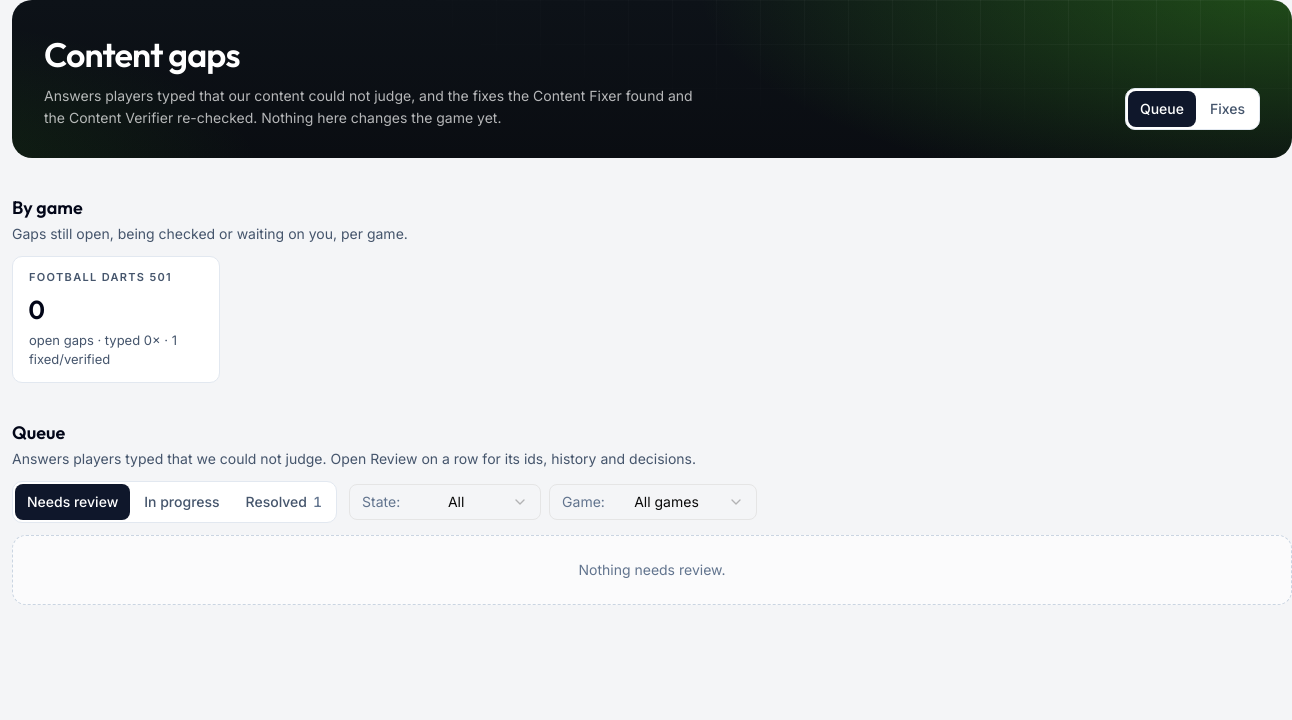
Test: a view with nothing in it says so, and the State filter narrows the list
Expected: the text "Nothing needs review." is shown, [12,534,1291,604]
Click the tab "Resolved1": (284, 502) [234,484,334,520]
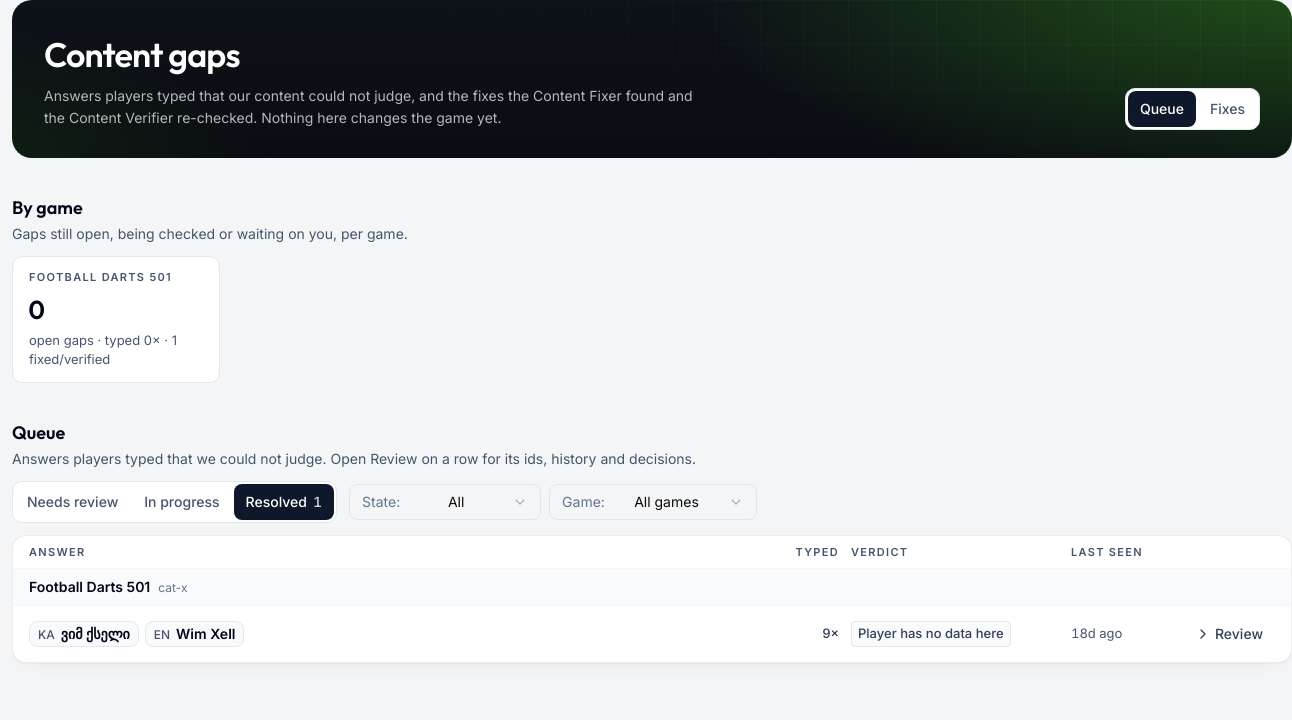
Expected: the text "Wim Xell" is shown, [176,625,236,642]
Press ArrowDown in the dropdown named "Filter by state", box [349,484,541,520]
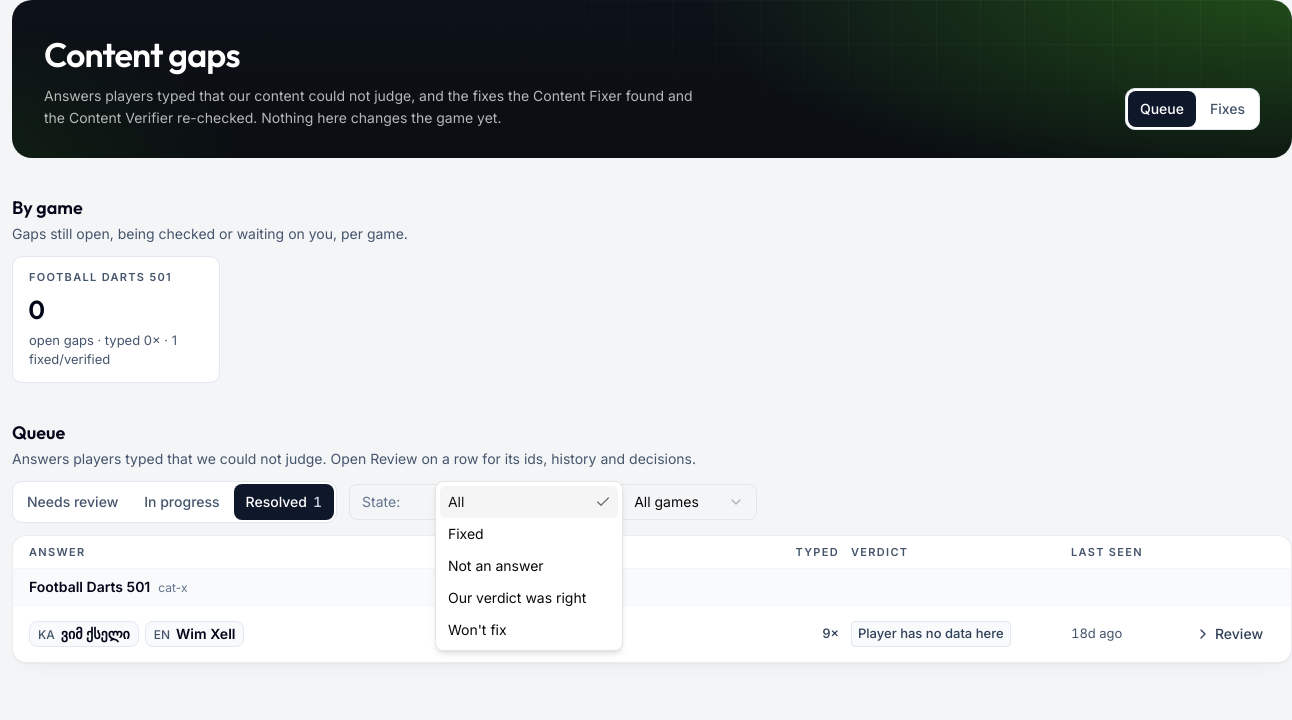
Click the option "Not an answer": (496, 565) [448,556,544,574]
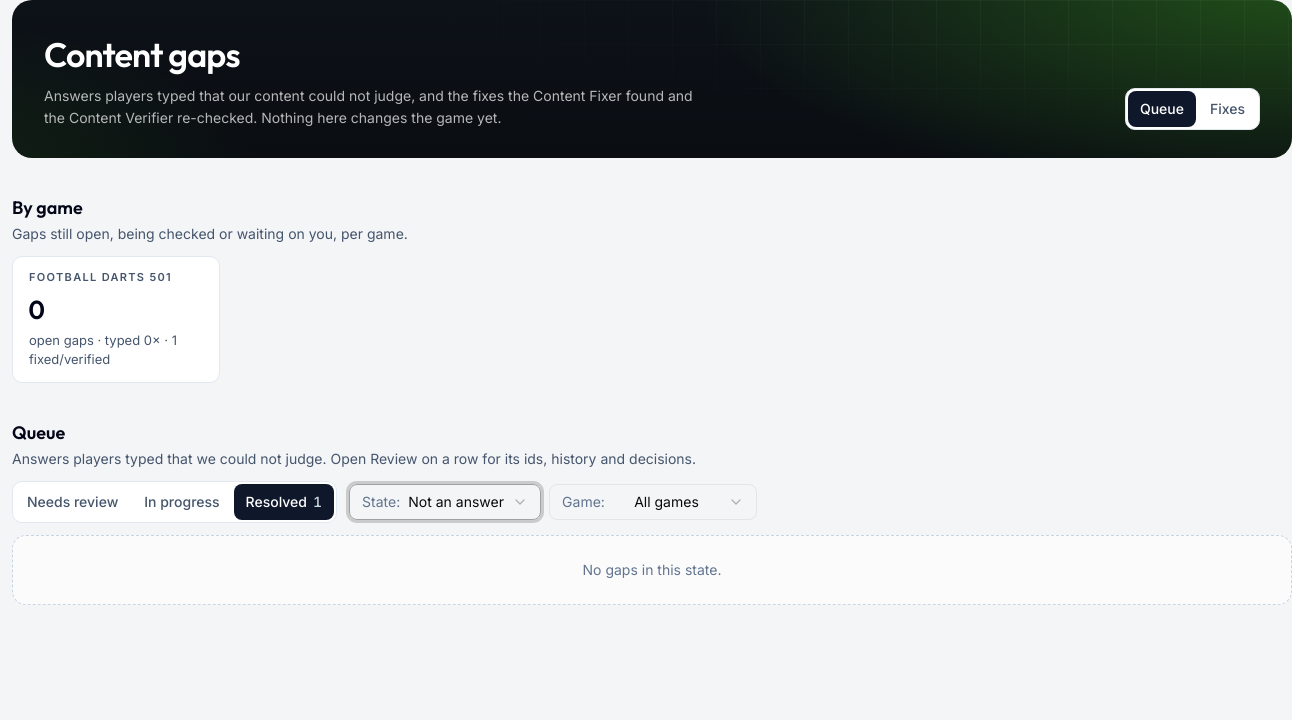
Expected: the text "No gaps in this state." is shown, [12,534,1291,604]
